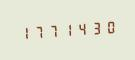four: (73, 19, 86, 38)
one: (17, 23, 30, 42), (59, 20, 72, 39)
seven: (31, 22, 44, 41), (45, 21, 58, 40)
three: (87, 18, 100, 37)
zero: (101, 17, 114, 36)
